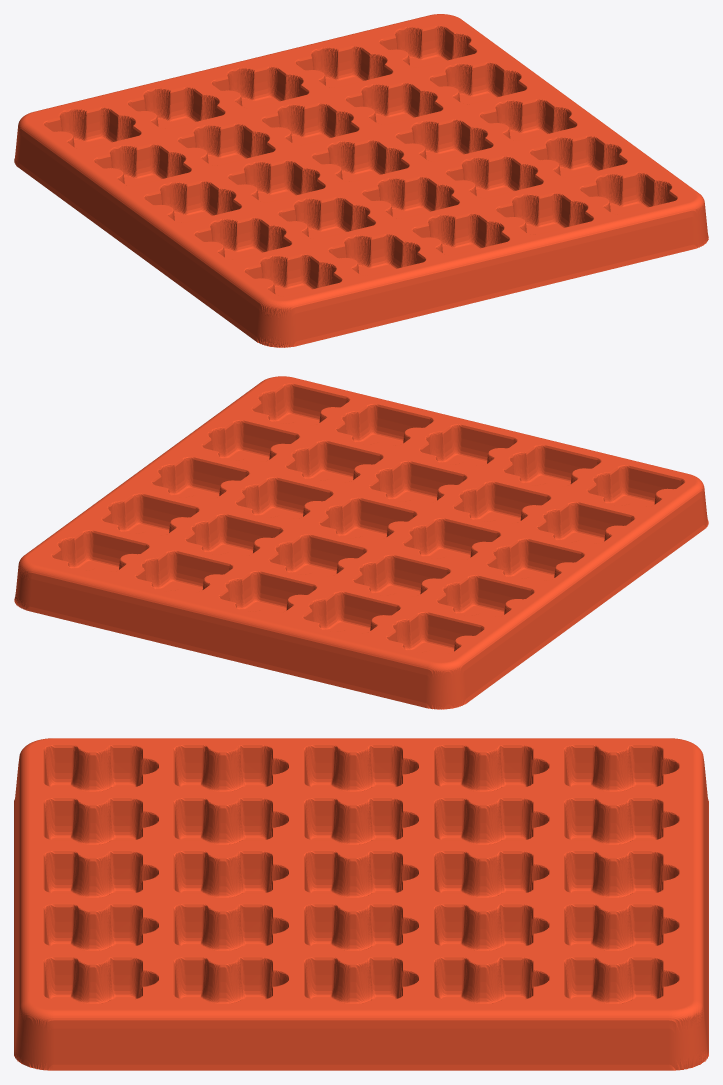
File: mold.glb
3 views of the same model, one above another, from view 1: azimuth 30°, elevation 25°; view 2: azimuth 150°, elevation 25°; view 3: azimuth 270°, elevation 25° (orthographic). The views are drawn at different scales.
Visible parts, largest first — view 1: geometry_0; view 2: geometry_0; view 3: geometry_0.
Boxes of the visible parts, x1,y1,x2,y2 form: geometry_0: (14,14,708,347); geometry_0: (14,376,708,709); geometry_0: (14,738,708,1070).
Size of the model in its own units: 0.1532 by 0.0136 by 0.1584.
